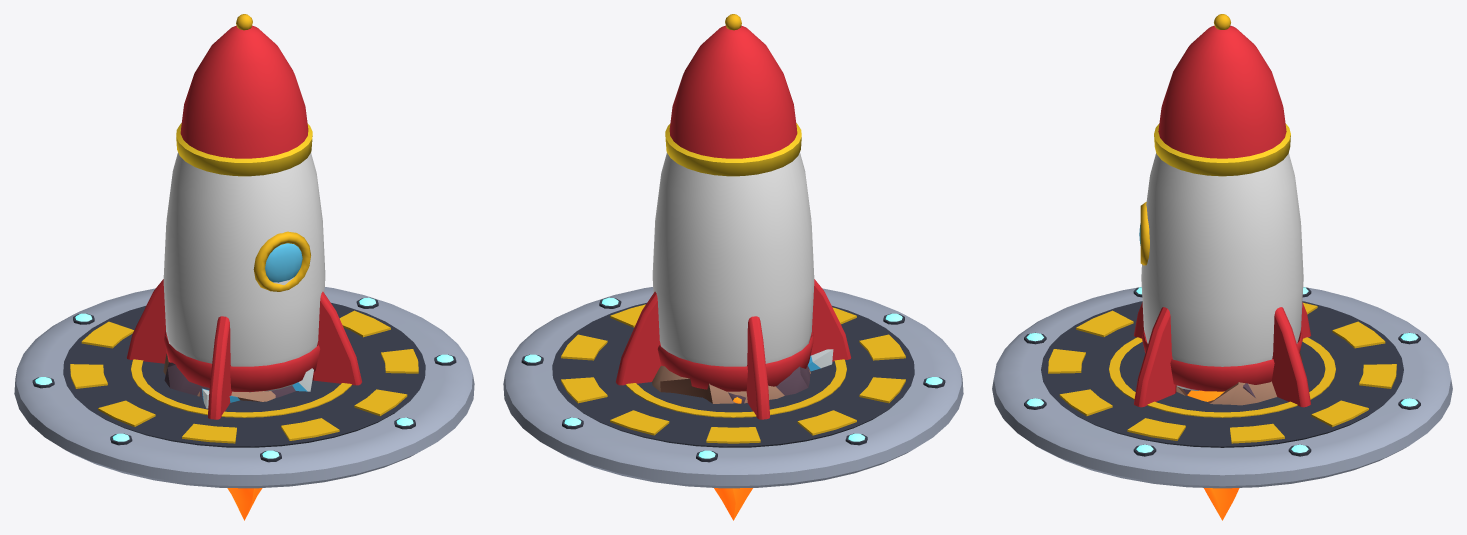
The model's file is space.glb.
3 renders of one model, left to right at view 1: azimuth 30°, elevation 25°; view 2: azimuth 150°, elevation 25°; view 3: azimuth 270°, elevation 25°, orthographic.
Parts seen in each view (by area): view 1: ship, pad, asteroid_lava, flame; view 2: ship, pad, asteroid_rock, asteroid_lava, flame; view 3: pad, ship, asteroid_rock, flame.
Part boxes in pixels (<box>): ship: <box>126,14,361,419</box>; pad: <box>14,287,474,488</box>; asteroid_lava: <box>164,362,295,397</box>; flame: <box>227,488,262,520</box>; ship: <box>616,14,851,419</box>; pad: <box>503,287,963,488</box>; asteroid_rock: <box>652,365,810,403</box>; asteroid_lava: <box>701,366,810,403</box>; flame: <box>714,488,752,520</box>; pad: <box>992,287,1452,488</box>; ship: <box>1134,14,1310,407</box>; asteroid_rock: <box>1176,352,1302,405</box>; flame: <box>1204,488,1239,520</box>.
Size of the model in its own units: 5.28 by 6.4 by 5.28.
